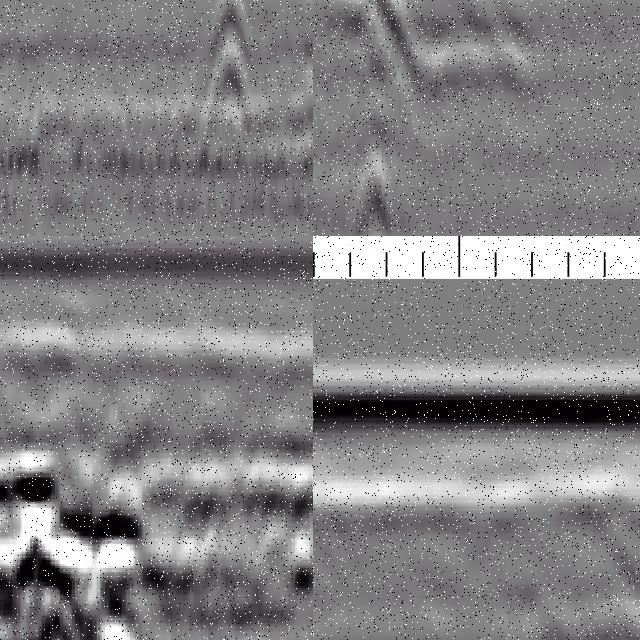crack: (332, 1, 391, 237), (209, 1, 253, 124)
loose: (1, 434, 213, 640), (396, 1, 532, 137), (519, 491, 640, 640)
